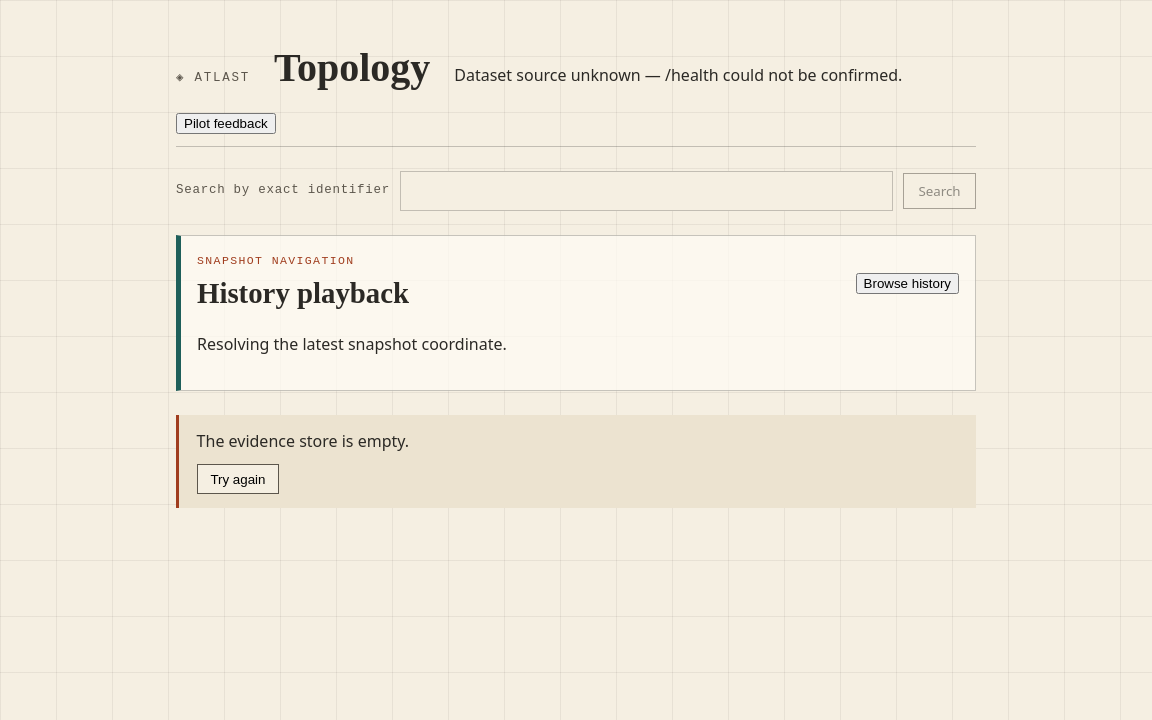
Test: TopologyPage — inventory › shows an expected API error with a working retry
The width and height of the screenshot is (1152, 720).
Expected: the message "The evidence store is empty. Try again" is shown, [176,415,976,508]
Click the button "Try again": x=238, y=479 [197,464,279,494]
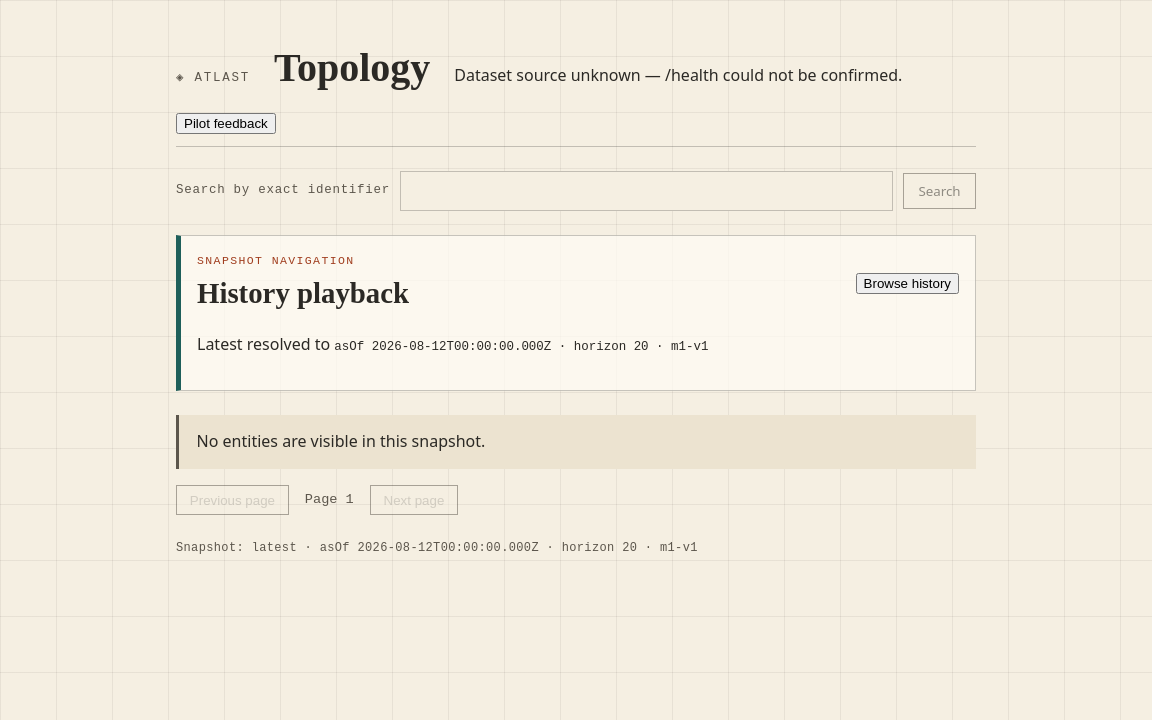
Expected: the text "No entities are visible in this snapshot." is shown, [176,415,976,469]
